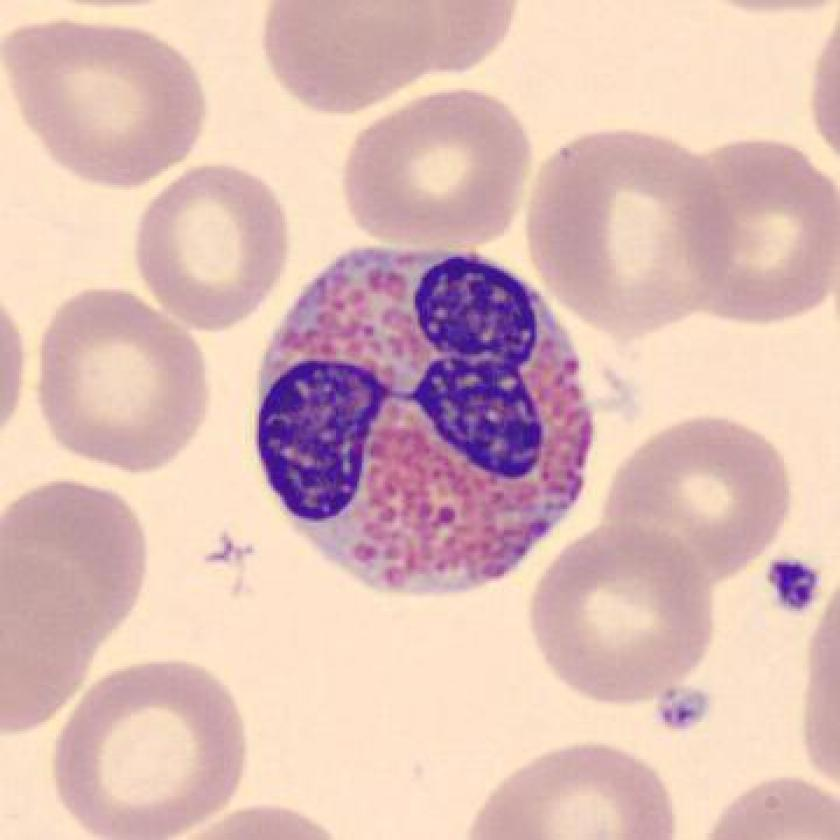eosinophil: (244, 233, 608, 615)
